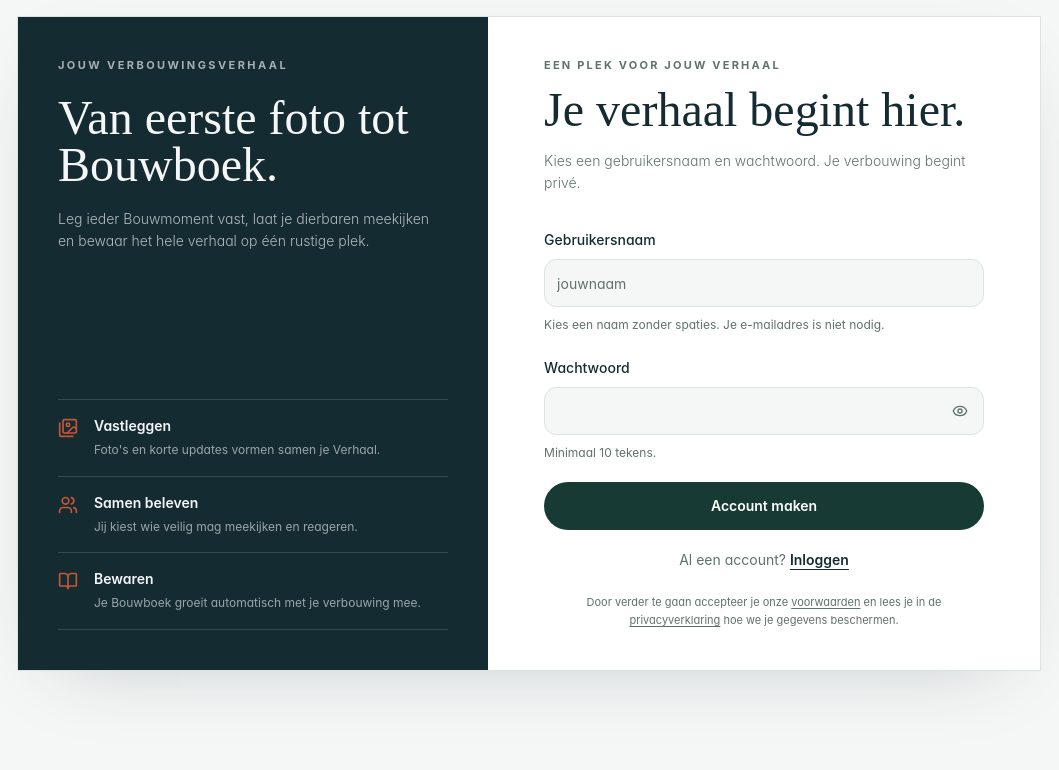
Test: username/password auth page › refreshes the server session after signUp without navigating before it is confirmed
Type "bouw-eigenaar" into the field labelled "Gebruikersnaam". click: (764, 283)
box: left=544, top=259, right=984, bottom=307
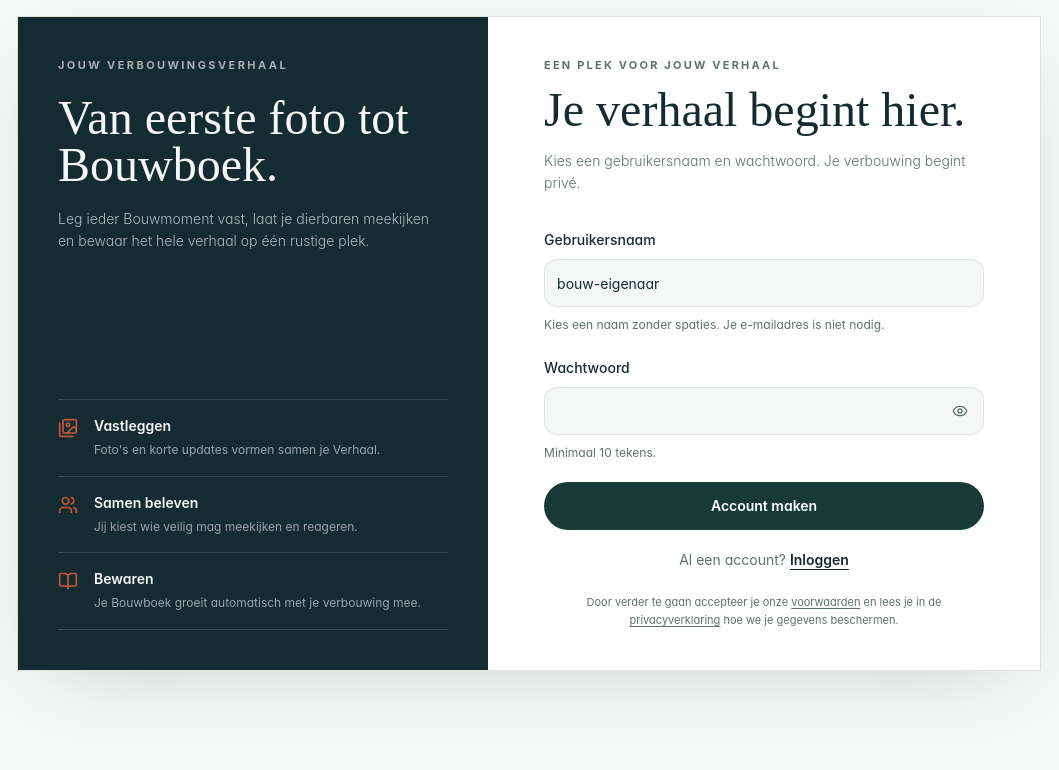
Type "Bouw!dag27" into the password field labelled "Wachtwoord". click: (764, 410)
box: left=544, top=386, right=984, bottom=434
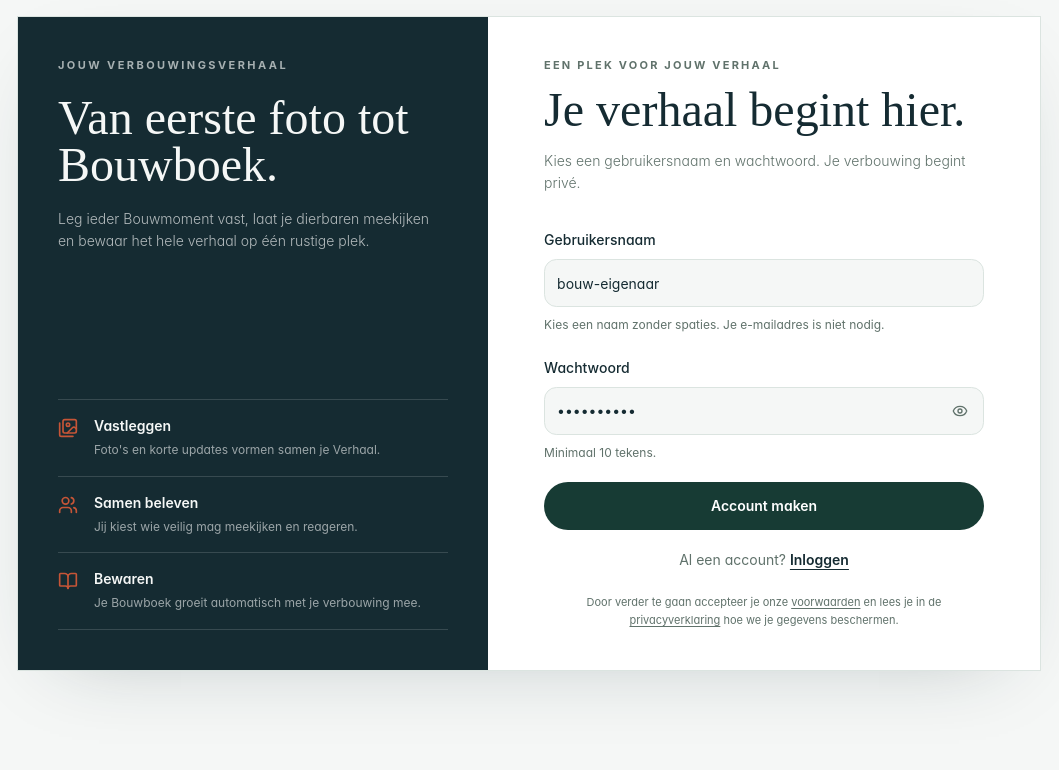
Submit the form named "Account maken", box left=544, top=227, right=984, bottom=570
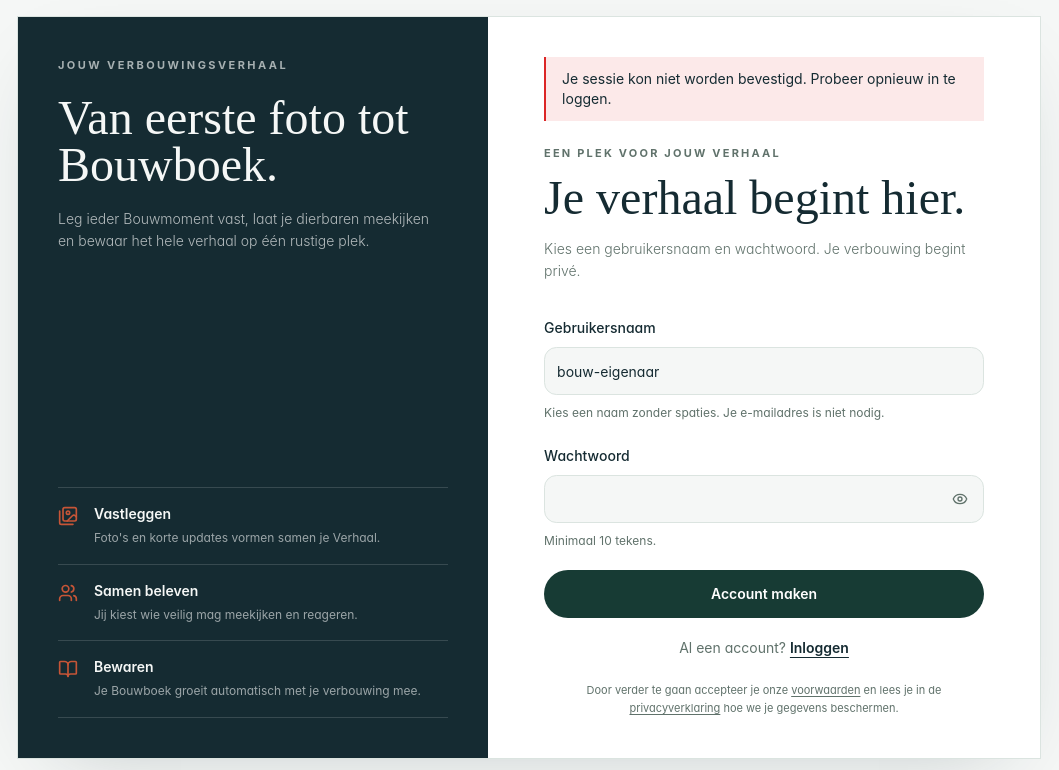
expect the password field labelled "Wachtwoord" is empty: met, box left=544, top=474, right=984, bottom=522
expect the message shows "Je sessie kon niet worden bevestigd": met, box left=562, top=70, right=956, bottom=107
